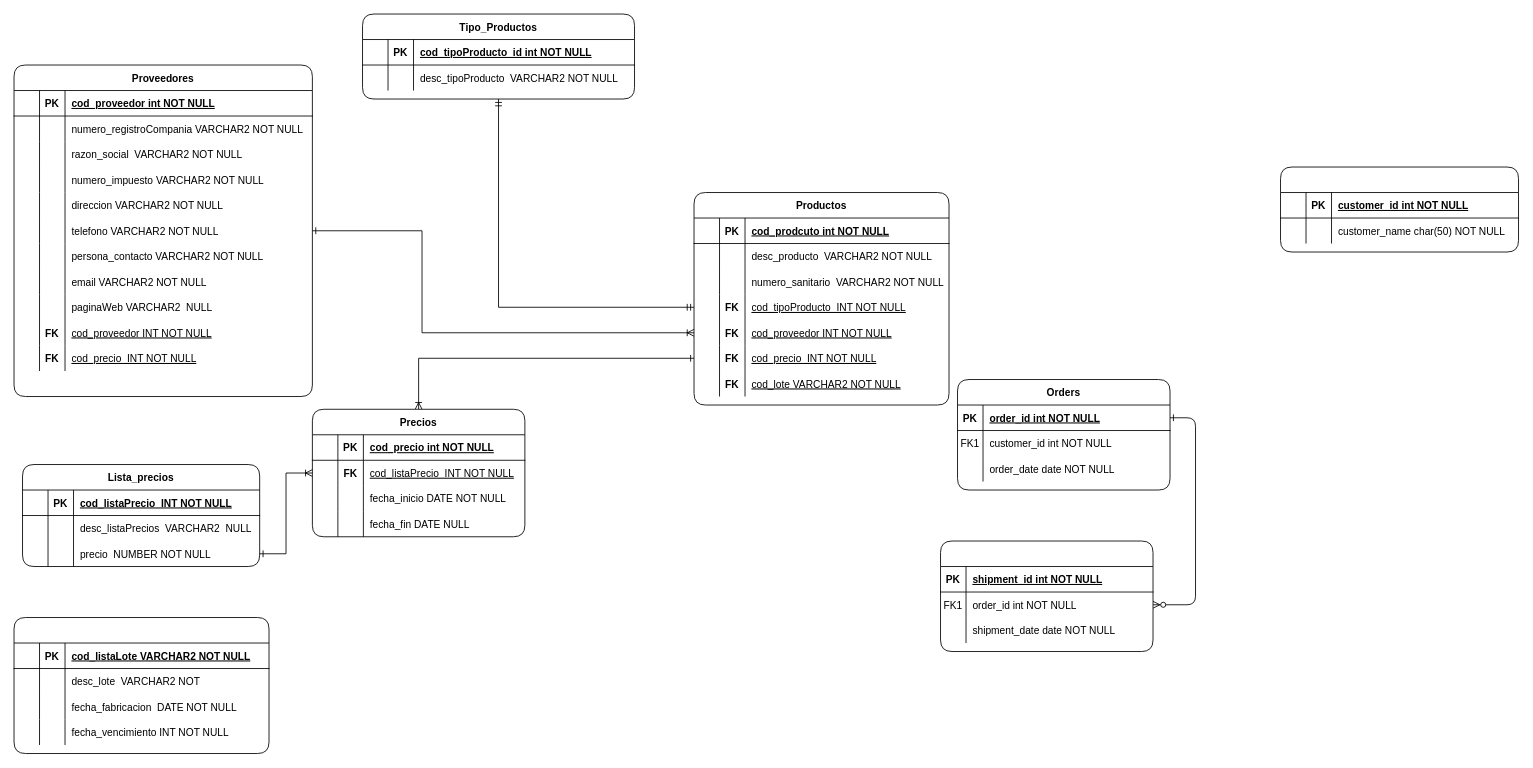
Image size: 1533x768. Some labels were removed from this diagram. The shapes that lost their labels are listed below. From the top down, each one's box as (x1, y1, x2, y2) in pixels, then its label:
(1280, 166, 1519, 252): Customers
(940, 540, 1153, 652): Shipments
(13, 617, 269, 754): Lista_lotes
